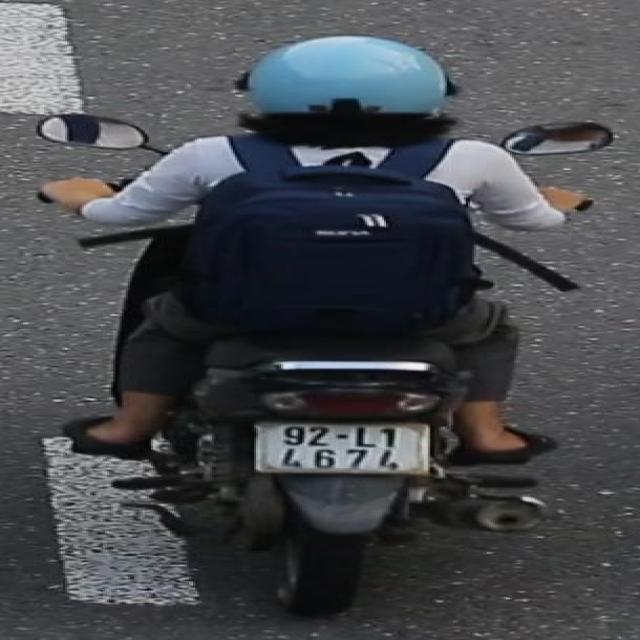LP: (250, 417, 447, 478)
helmet: (229, 23, 466, 152)
